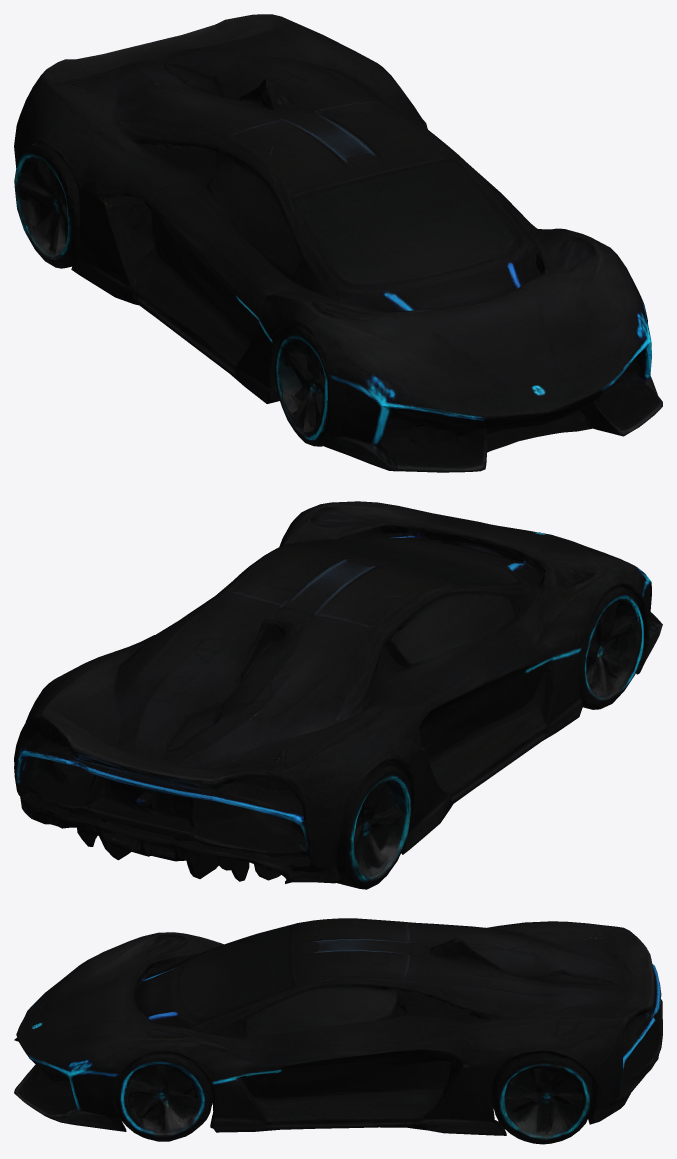
File: hero-car.glb
3 views of the same model, one above another, from view 1: azimuth 30°, elevation 25°; view 2: azimuth 150°, elevation 25°; view 3: azimuth 270°, elevation 25° (orthographic). The views are drawn at different scales.
Visible parts, largest first — view 1: world; view 2: world; view 3: world.
Part boxes in pixels (x1=…): world: x1=14, y1=14, x2=662, y2=472; world: x1=14, y1=501, x2=662, y2=889; world: x1=14, y1=918, x2=662, y2=1144.
Size of the model in its own units: 0.4733 by 0.2473 by 0.9991.
Materials: 1 (1 with a texture image).
